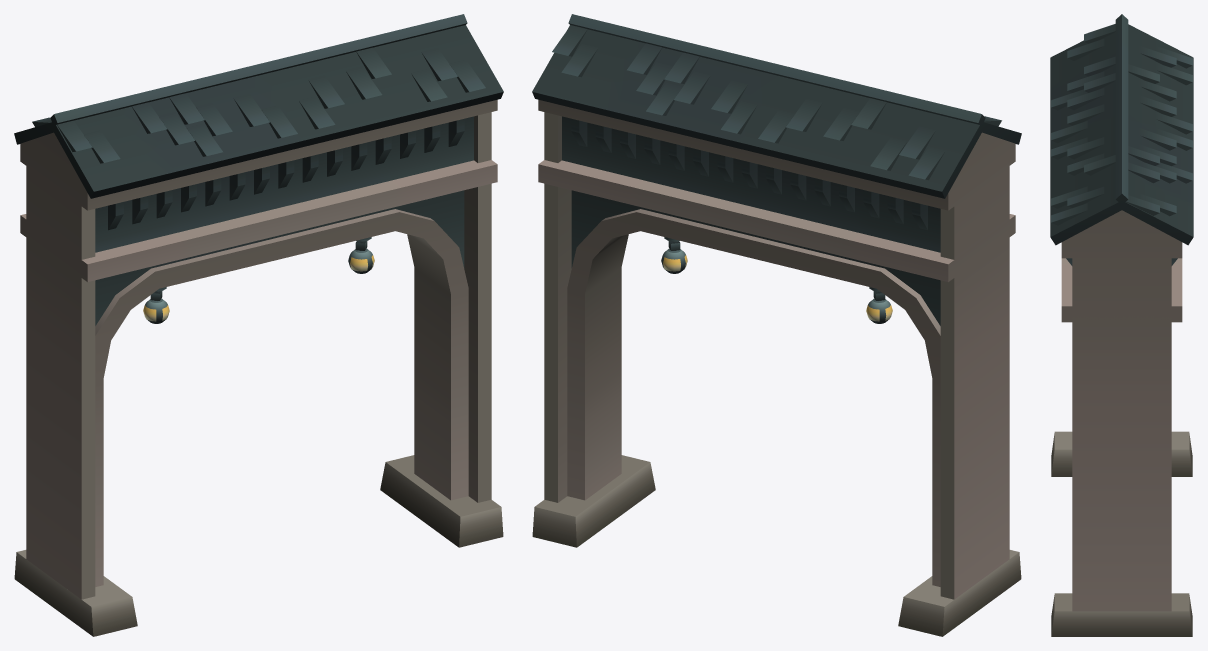
Rendered from Concrete_Arch_1A.fbx.
The picture shows the model from 3 angles, left to right: view 1: azimuth 30°, elevation 25°; view 2: azimuth 150°, elevation 25°; view 3: azimuth 270°, elevation 25°; orthographic projection. The views are drawn at different scales.
Visible parts, largest first — view 1: Concrete_Arch_1A; view 2: Concrete_Arch_1A; view 3: Concrete_Arch_1A.
Boxes of the visible parts, x1=… form: Concrete_Arch_1A: x1=14, y1=14, x2=503, y2=636; Concrete_Arch_1A: x1=532, y1=14, x2=1021, y2=636; Concrete_Arch_1A: x1=1050, y1=14, x2=1193, y2=636.
Bounding box in the file's own units: 1200 × 1382 × 405.
